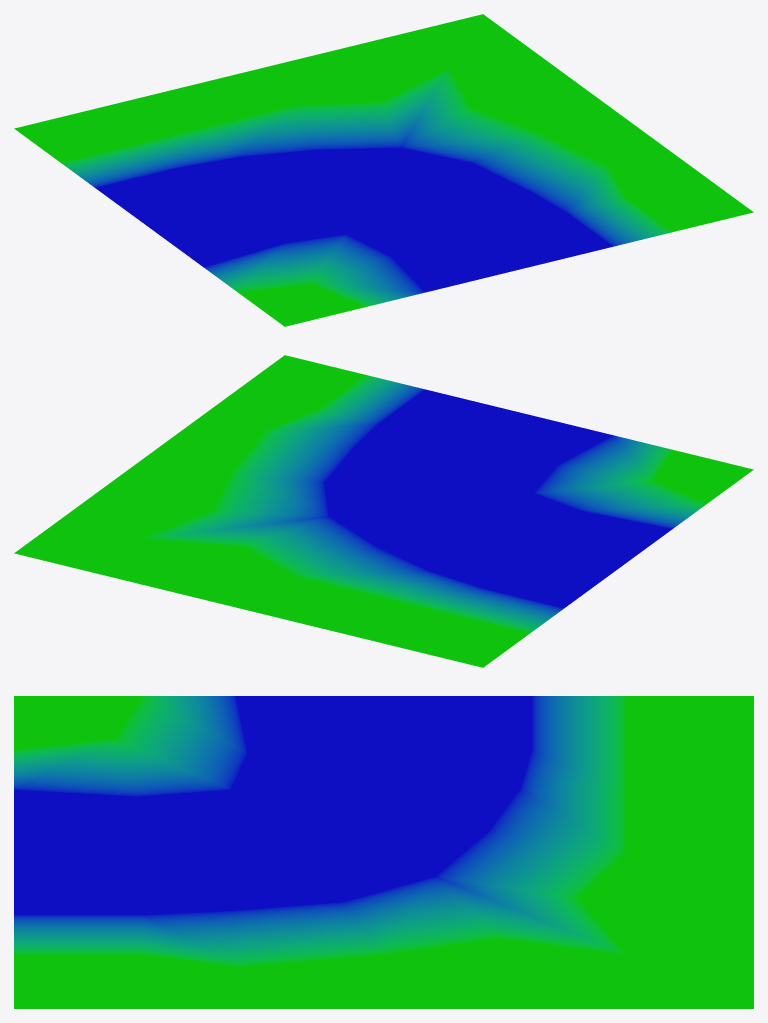
File: SM_FloorTurn.fbx
3 renders of one model, top to bottom at view 1: azimuth 30°, elevation 25°; view 2: azimuth 150°, elevation 25°; view 3: azimuth 270°, elevation 25°, orthographic. The views are drawn at different scales.
Visible parts, largest first — view 1: SM_FloorTurn; view 2: SM_FloorTurn; view 3: SM_FloorTurn.
Boxes of the visible parts, x1=… form: SM_FloorTurn: x1=14, y1=14, x2=753, y2=326; SM_FloorTurn: x1=14, y1=355, x2=753, y2=667; SM_FloorTurn: x1=14, y1=696, x2=753, y2=1008.
Bounding box in the file's own units: 500 × 2.38e-07 × 500.
